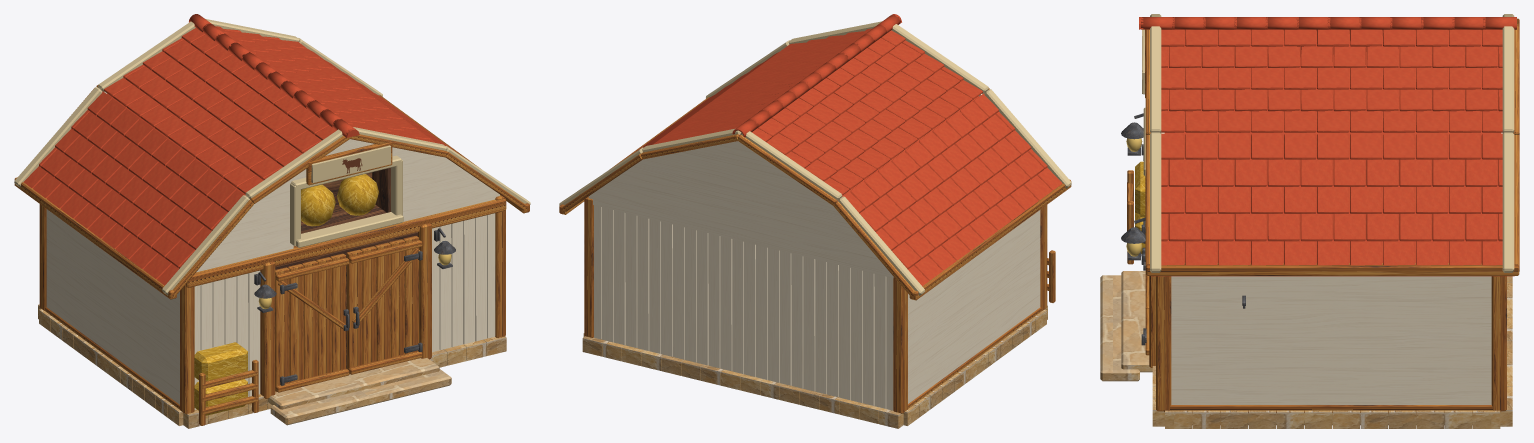
File: BarnExterior_Cozy_LOD1.fbx
The picture shows the model from 3 angles, left to right: view 1: azimuth 30°, elevation 25°; view 2: azimuth 150°, elevation 25°; view 3: azimuth 270°, elevation 25°; orthographic projection. The views are drawn at different scales.
Visible parts, largest first — view 1: BarnExterior_Cozy_LOD1; view 2: BarnExterior_Cozy_LOD1; view 3: BarnExterior_Cozy_LOD1.
Boxes of the visible parts, x1=… form: BarnExterior_Cozy_LOD1: x1=14, y1=14, x2=530, y2=428; BarnExterior_Cozy_LOD1: x1=559, y1=14, x2=1071, y2=428; BarnExterior_Cozy_LOD1: x1=1100, y1=14, x2=1519, y2=428.
Size of the model in its own units: 8.26 by 5.72 by 6.87.
